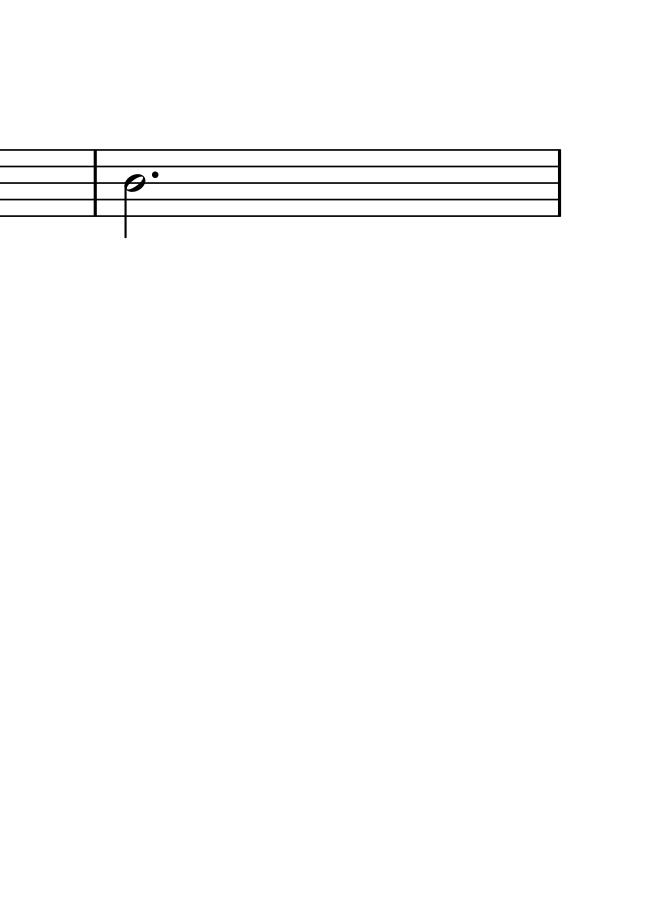2_4: (122, 148, 146, 240)
Single_barline: (551, 150, 567, 216), (88, 151, 102, 215)
dot: (149, 168, 160, 180)
